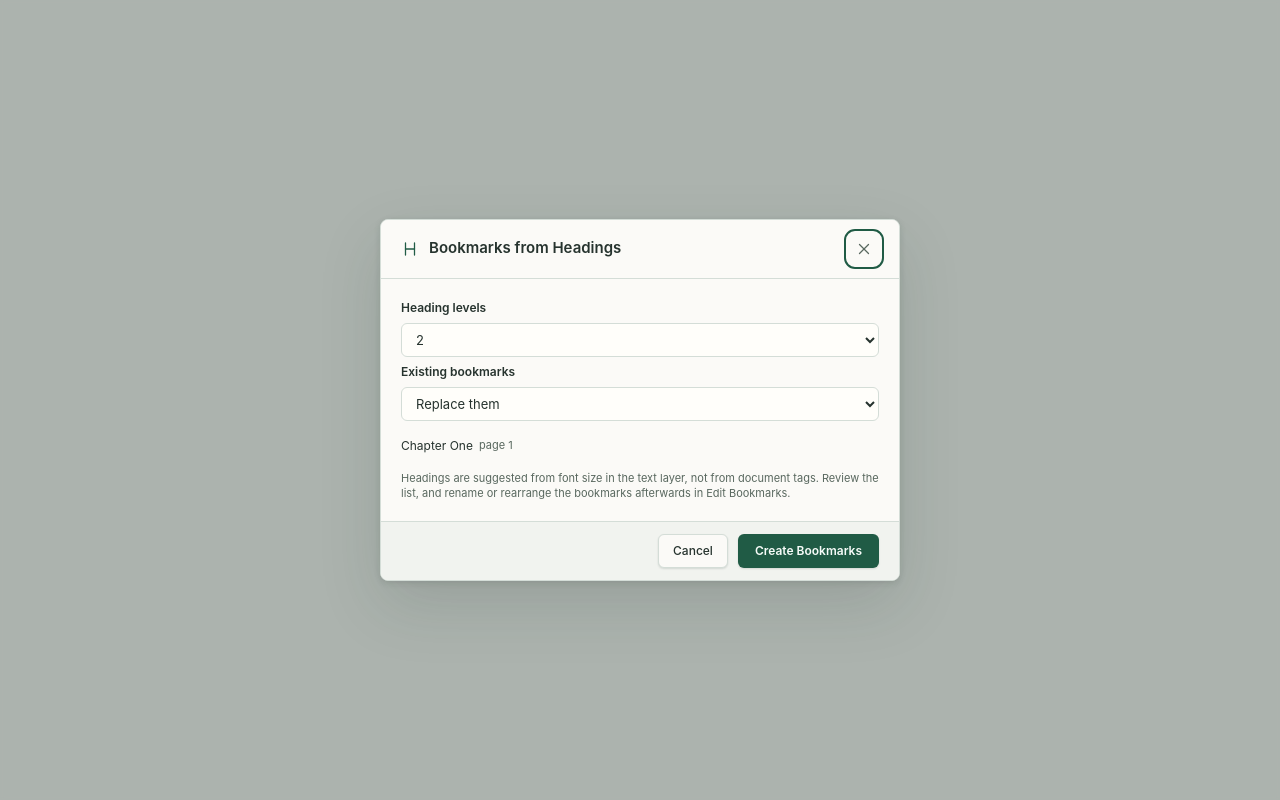
Test: does not apply headings found in a document that was replaced
Expected: the list item "Chapter One" is shown, [401,438,473,453]
Click the button "Create Bookmarks" at [808, 551], box [738,534,879,568]
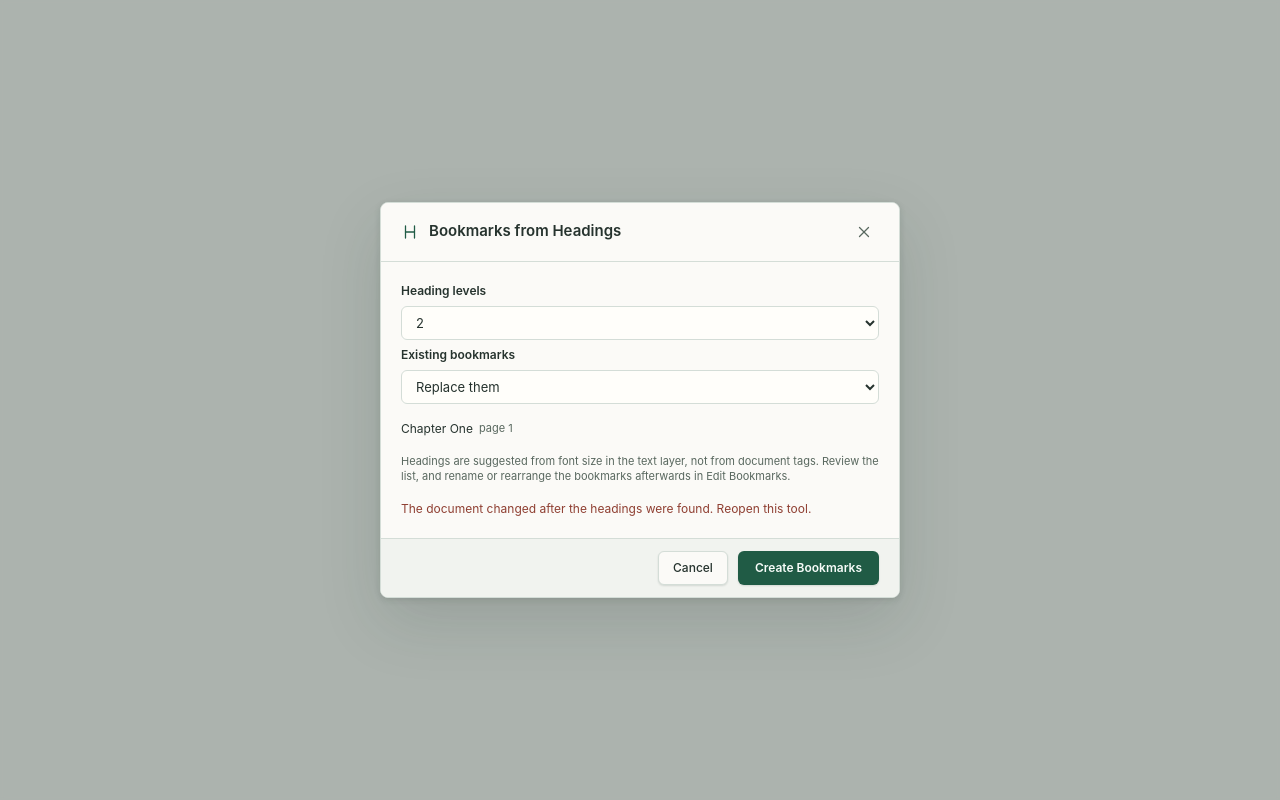
Now the message shows "document changed", box [401,501,811,516]
